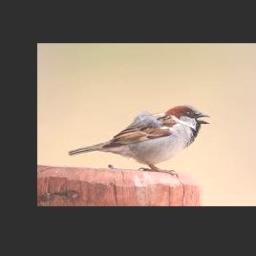Sparrow: (69, 104, 211, 176)
